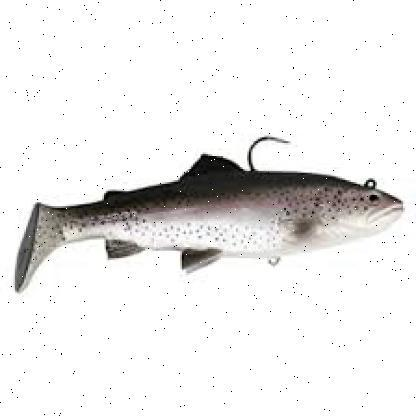fish: (13, 150, 405, 291)
